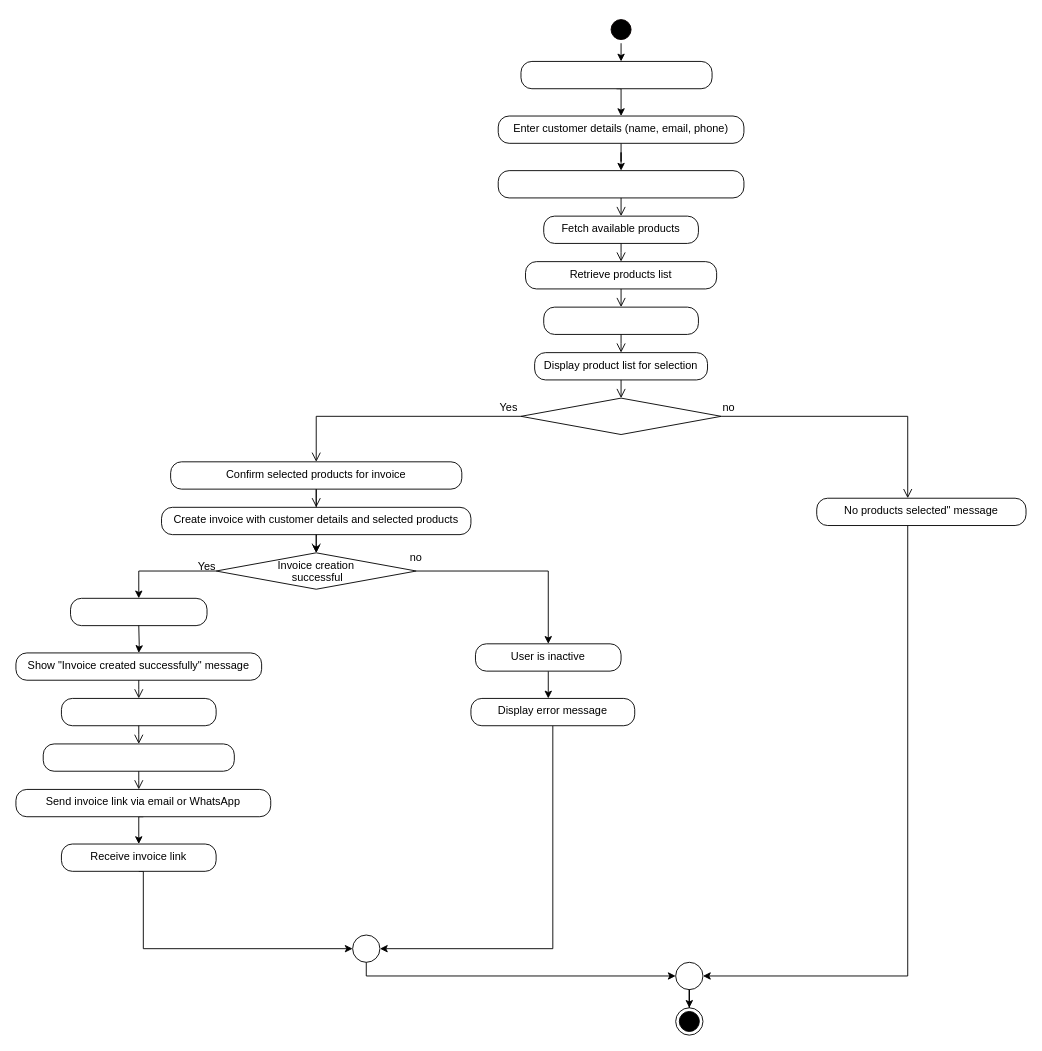
Image size: 1042x1051. Some labels were removed from this diagram. Here are the shapes that lost their labels. From the top down, the box of each, then its label:
(520, 61, 712, 89): Open "Customer Information" page
(497, 170, 744, 198): Click "Next" to proceed to product selection page
(543, 306, 698, 334): Return product list
(520, 397, 721, 435): User selects products
(70, 597, 207, 626): Invoice created
(61, 698, 216, 726): Generate invoice link
(42, 743, 234, 771): Return link for user access
